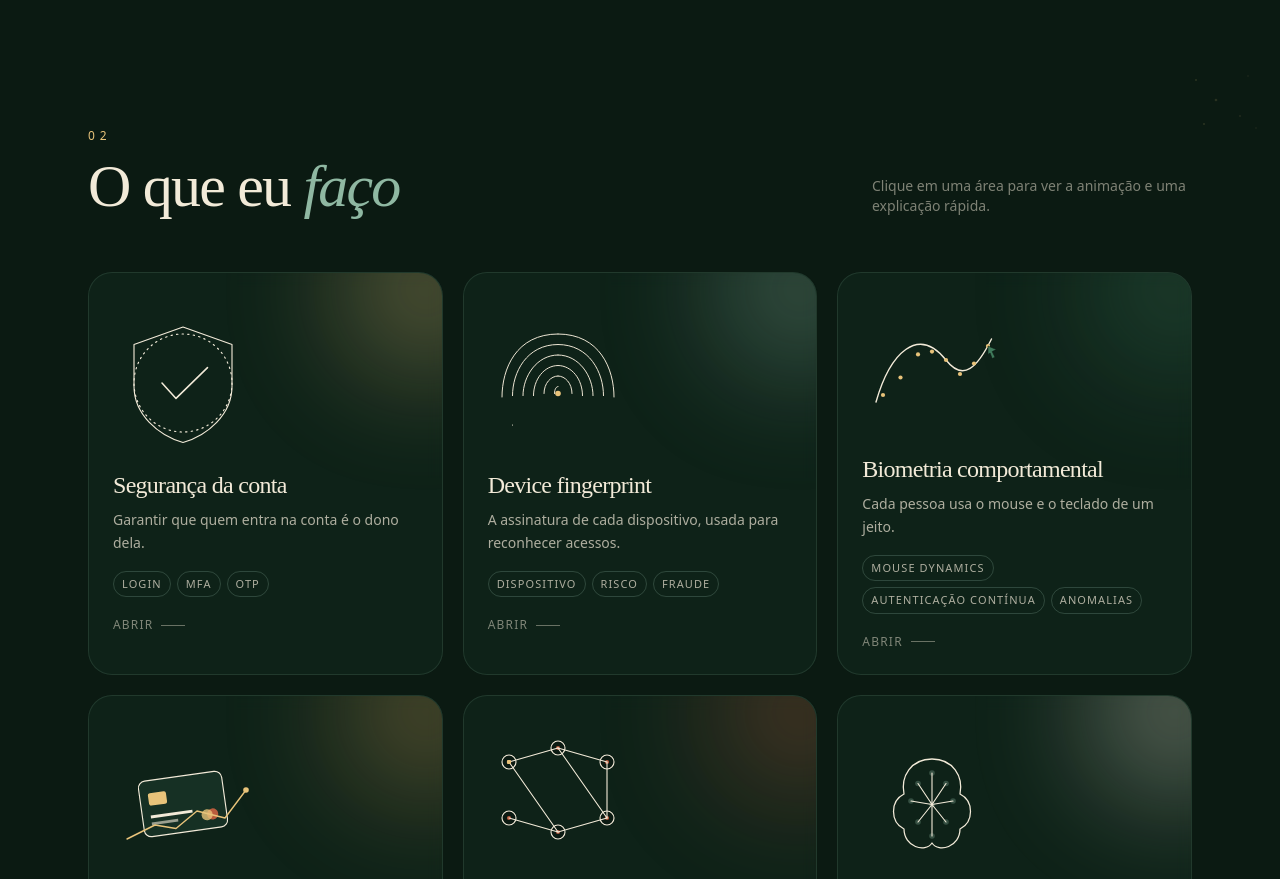
Test: Expertise › fecha no botão de fechar
Step 1. Click the button "Segurança da conta" → (265, 473), box [88,272,443,674]
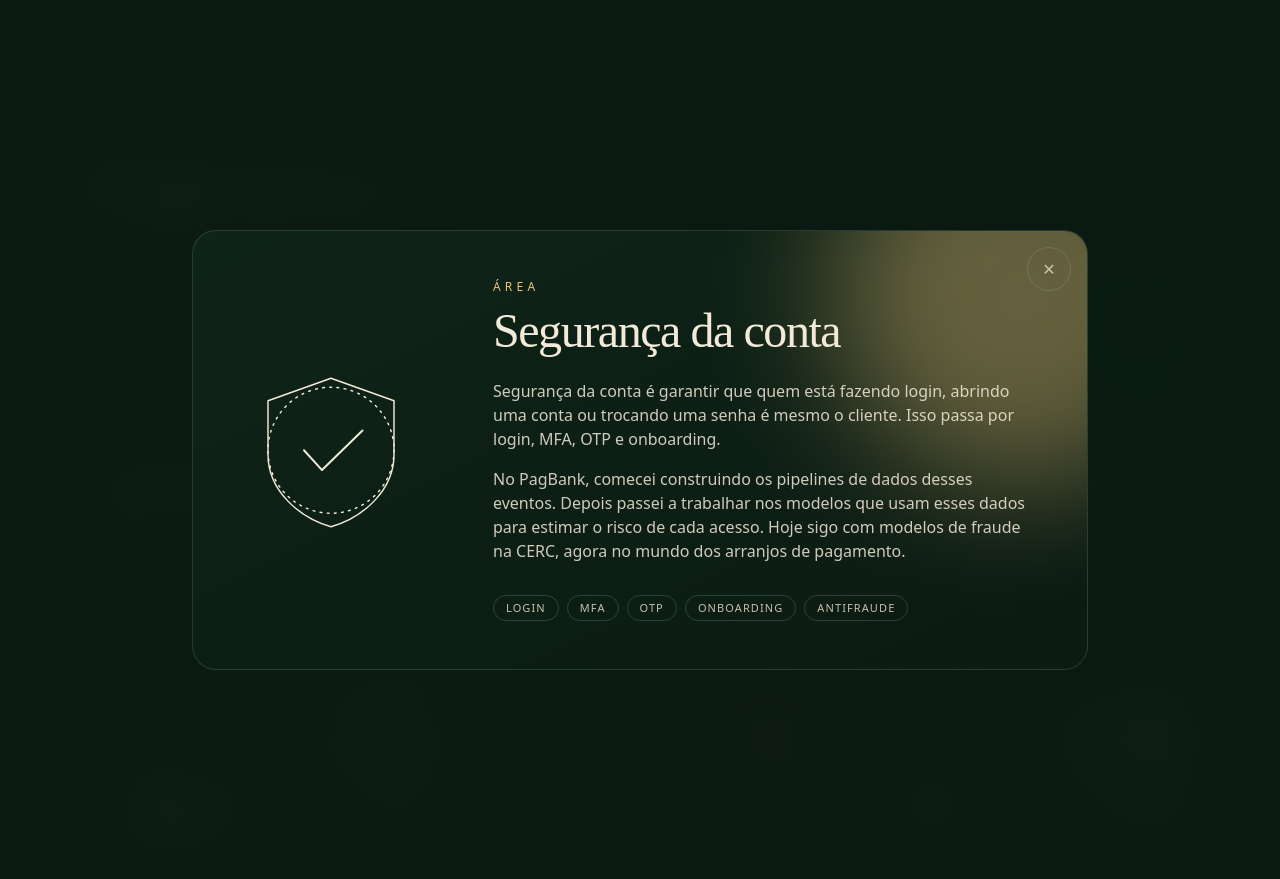
Step 2. Click the button named "fechar" → (1049, 269), box [1027,247,1071,291]
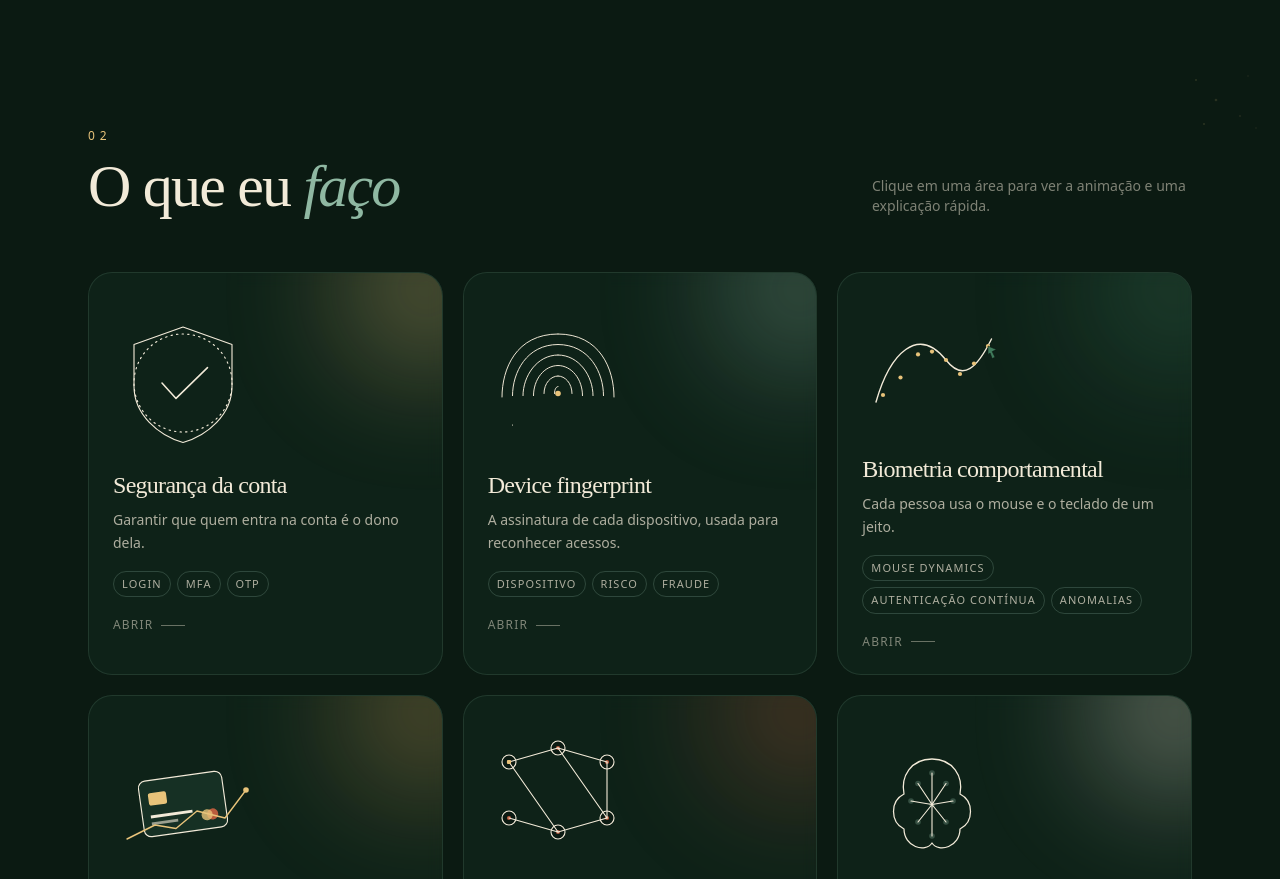
Expected: the dialog is gone
